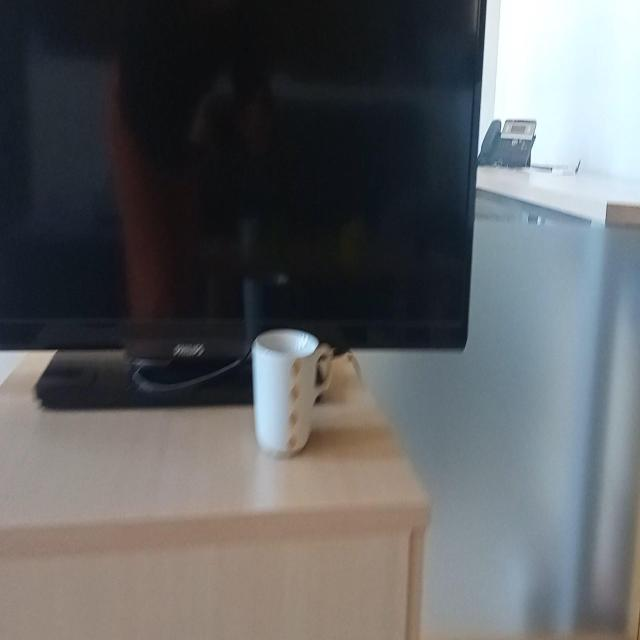cup: (250, 332, 335, 463)
